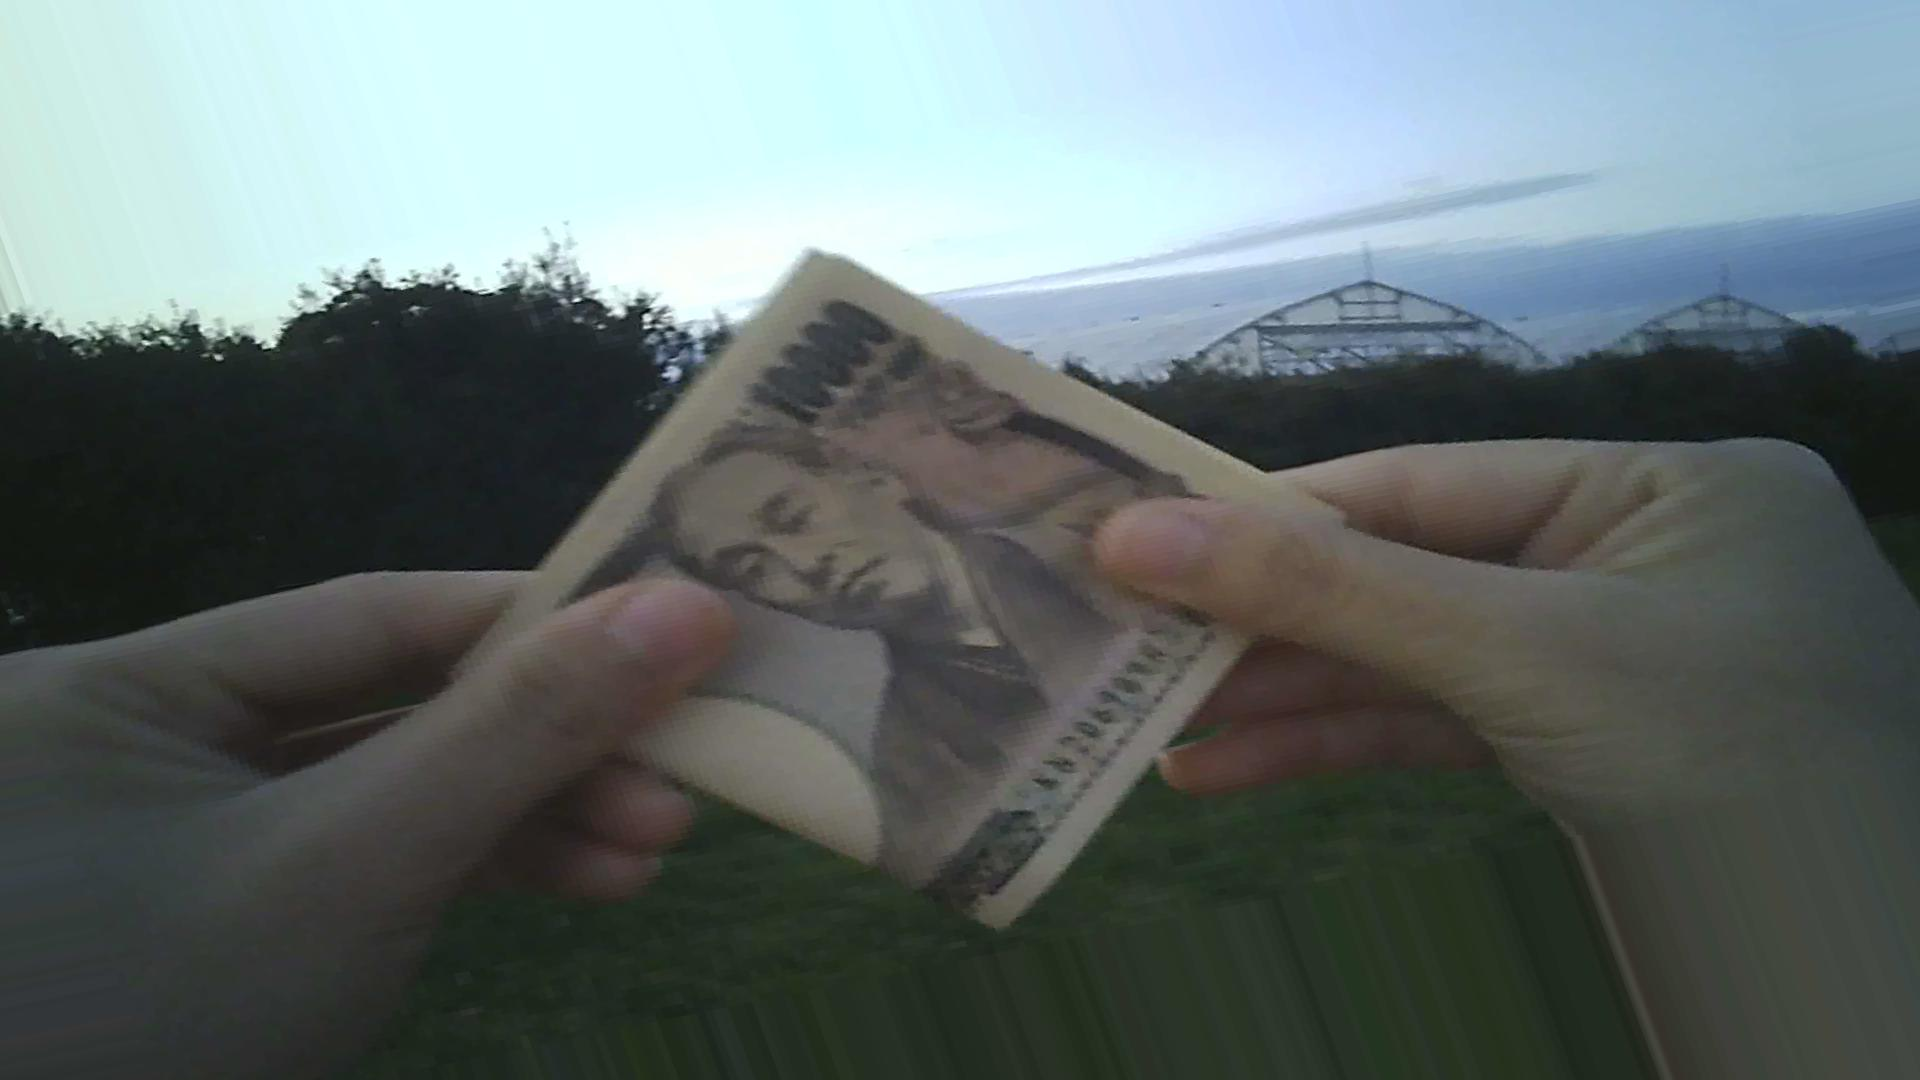10,000 Yen: (477, 233, 1346, 928)
